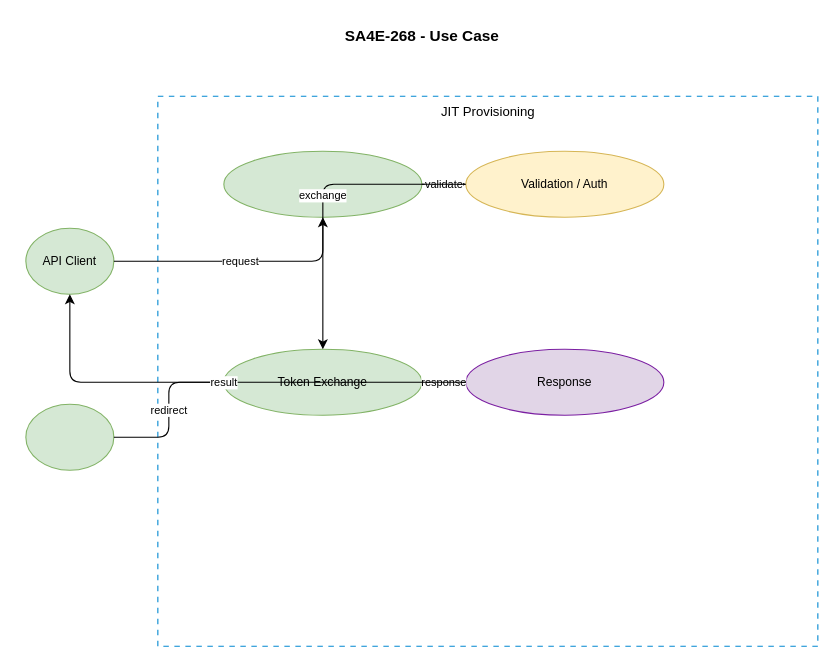
Image size: 837x666. Some labels were removed from this diagram. Each missing label, with the box of its shape:
Extension/Browser: (25, 403, 114, 470)
JIT Provisioning Flow: (223, 150, 422, 217)
